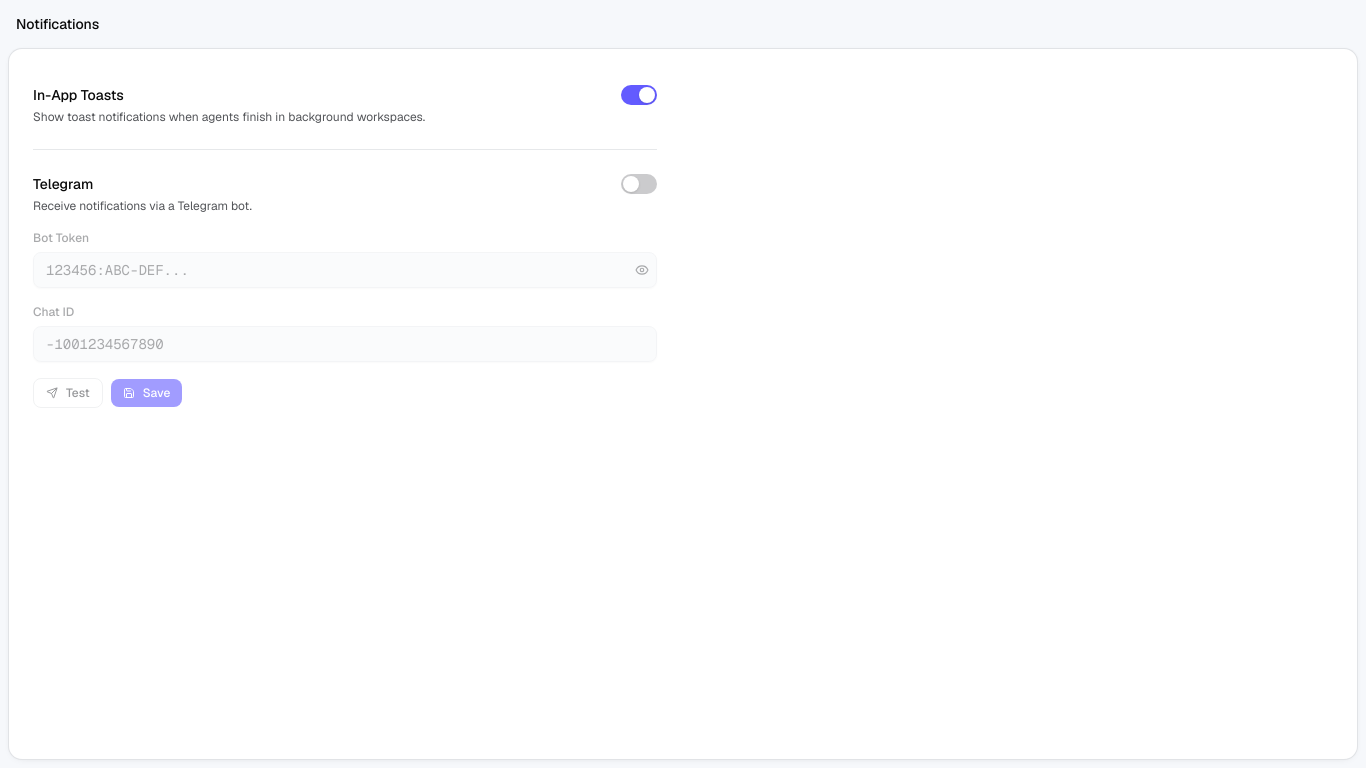
Scenario: NotificationSettings › saves settings and shows success feedback
This screenshot has width=1366, height=768.
Check: the heading "Notifications" is shown, box [16, 14, 99, 34]
Click the 2nd switch named "Telegram" at [639, 184], box [621, 174, 657, 194]
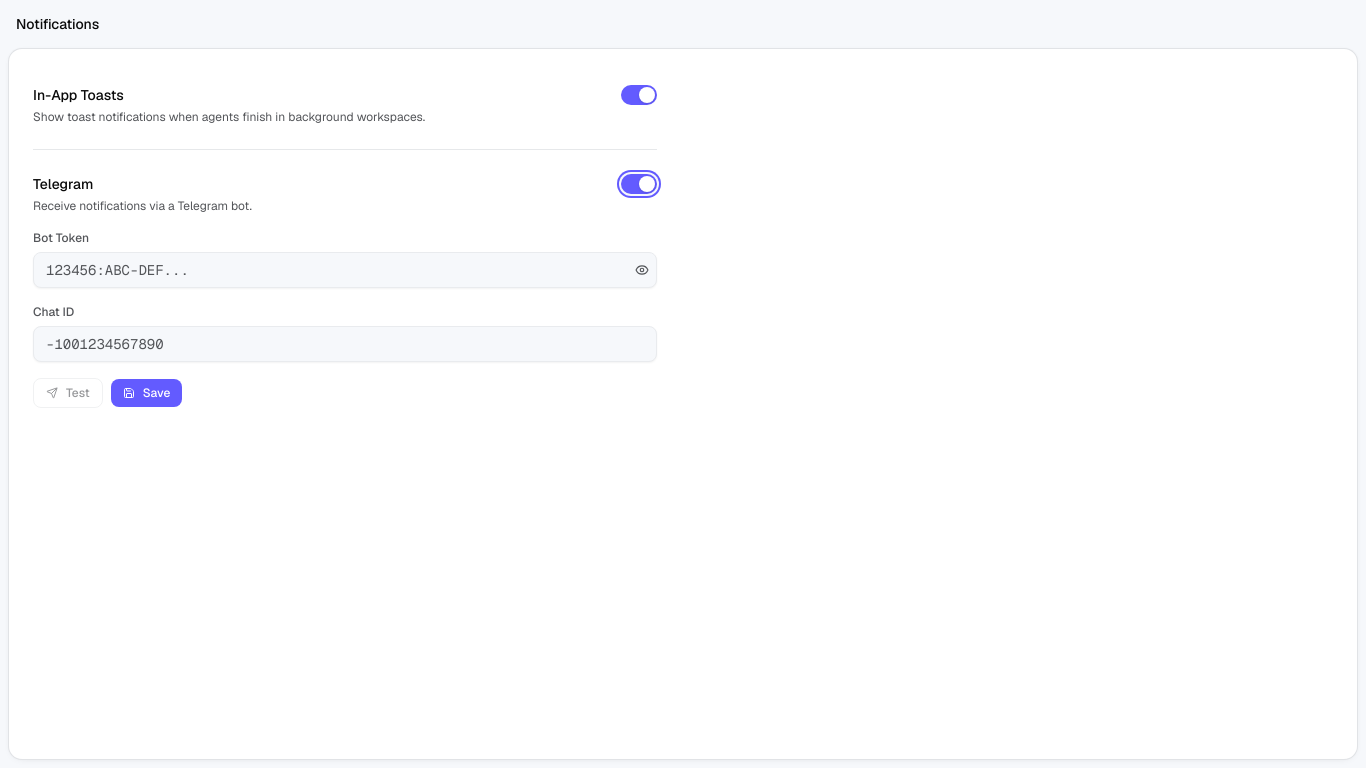
Type "token-abc" into the password field labelled "Bot Token" at [345, 270], box [33, 252, 657, 288]
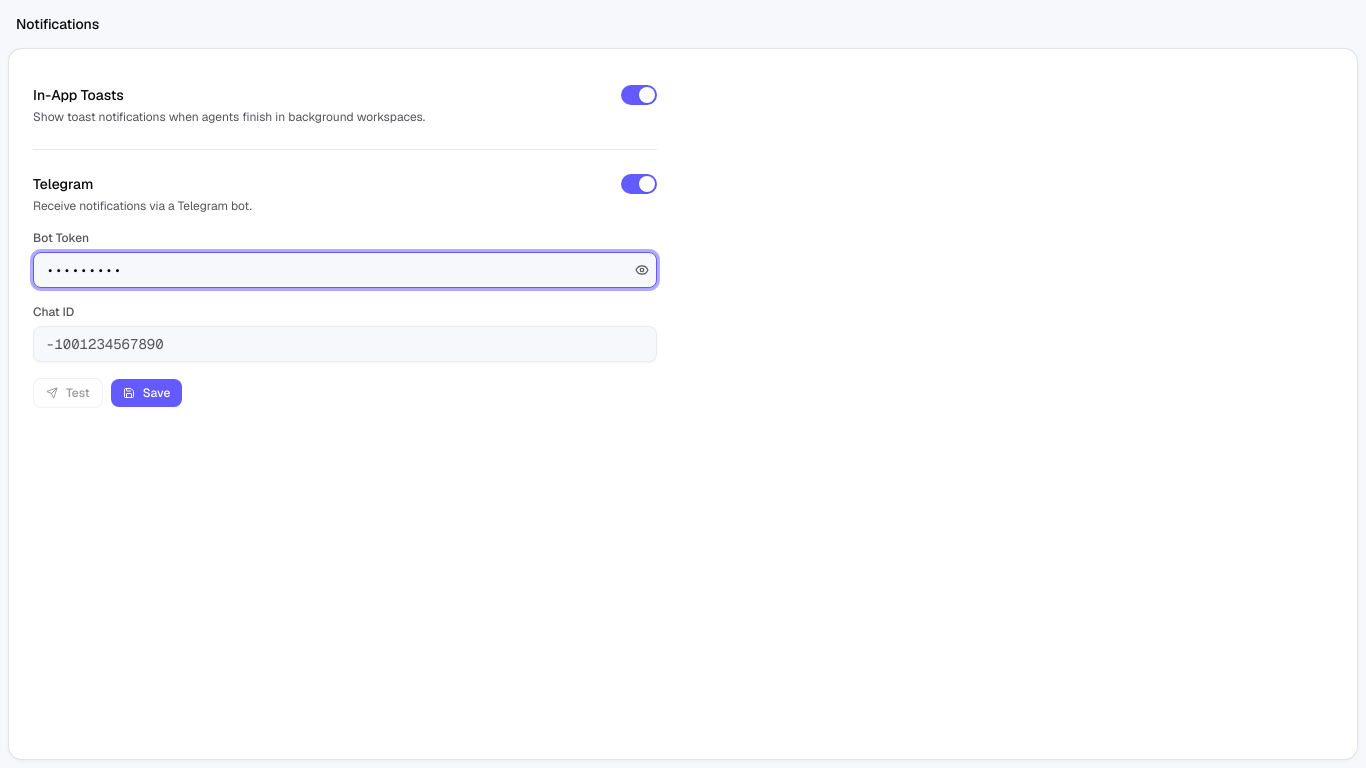
Type "-100123" into the field labelled "Chat ID" at [345, 344], box [33, 326, 657, 362]
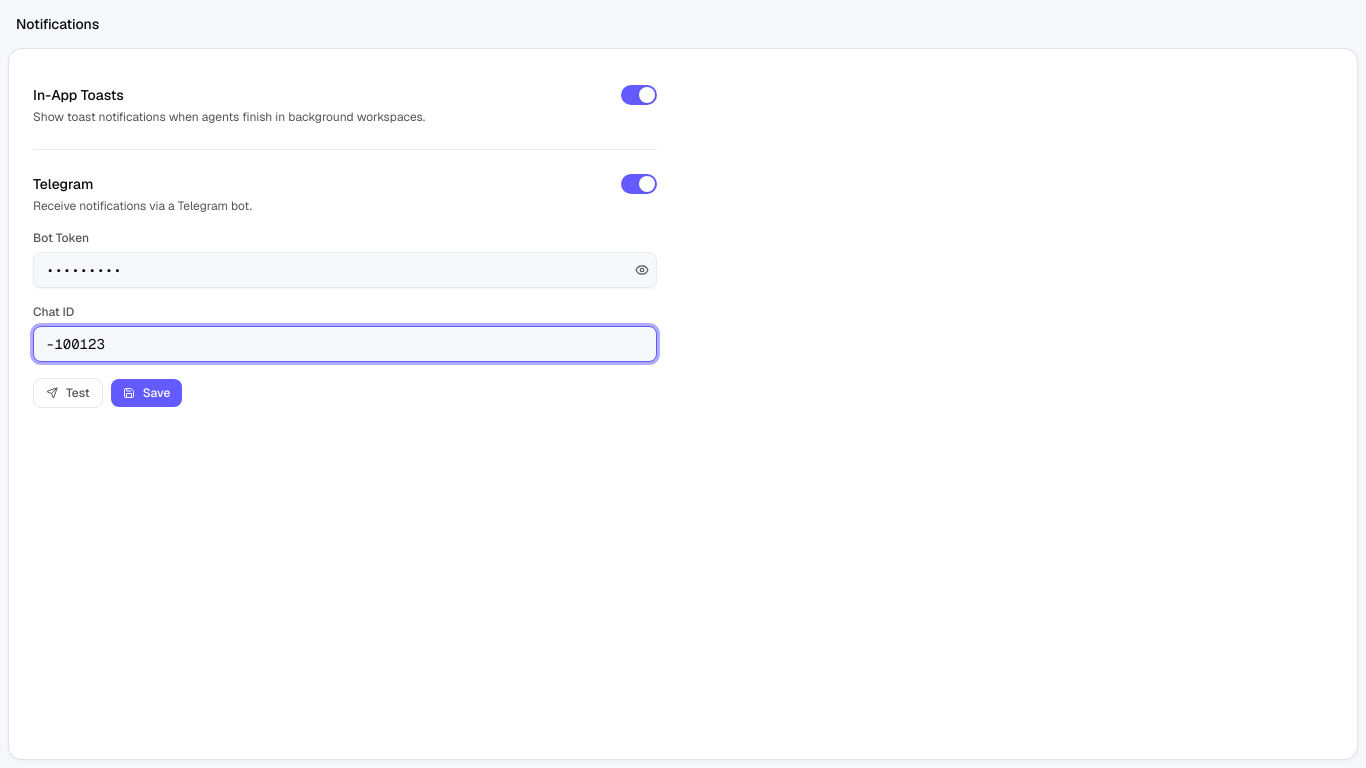
Click the button "Save" at [147, 393], box [111, 379, 182, 407]
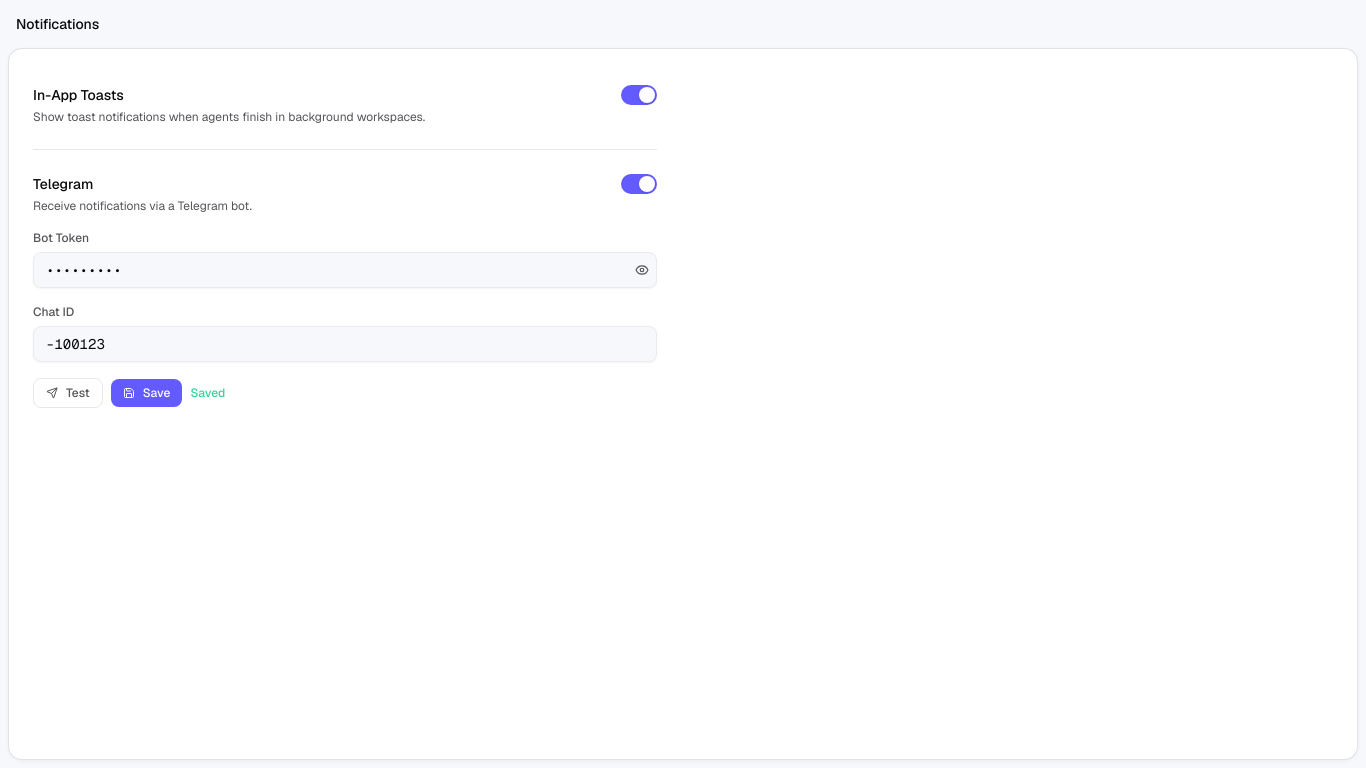
Check: the text "Saved" is shown, box [190, 385, 225, 401]
